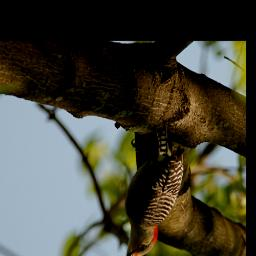Woodpecker: (118, 121, 184, 256)
